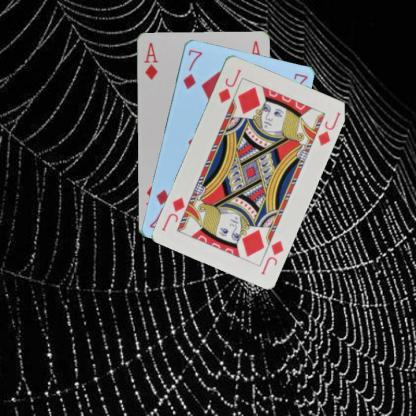7d: (180, 46, 203, 90)
Ad: (141, 40, 159, 80)
Jd: (216, 66, 243, 104), (258, 237, 285, 275)
